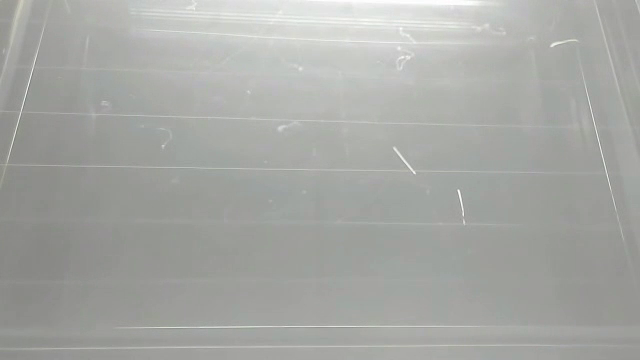alpha: (390, 144, 420, 176), (455, 186, 471, 228), (547, 36, 582, 50)
